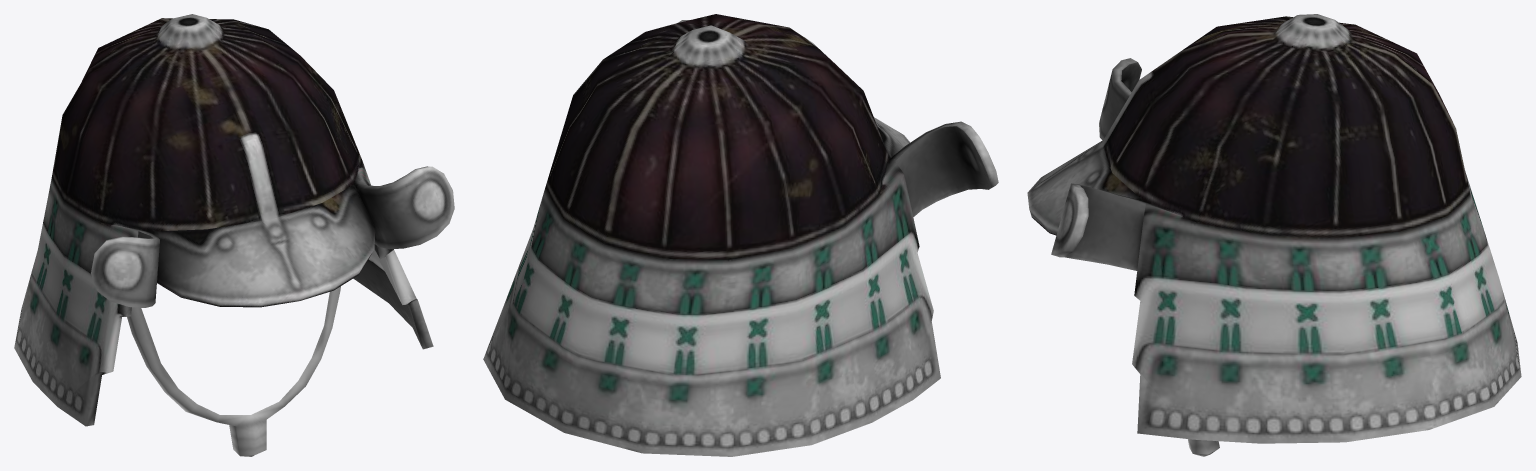
Rendered from helmet-mediuminfantry.glb.
3 views of the same model, side by side, from view 1: azimuth 30°, elevation 25°; view 2: azimuth 150°, elevation 25°; view 3: azimuth 270°, elevation 25° (orthographic). The views are drawn at different scales.
Size of the model in its own units: 0.3262 by 0.3394 by 0.3535.
1 material, 1 textured.
